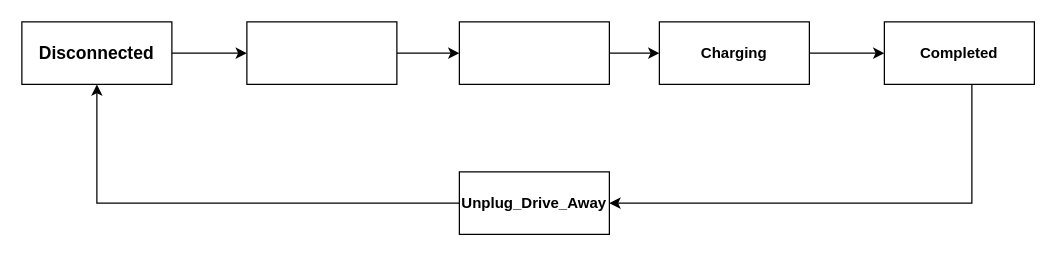
Image size: 1056x256. Some labels were removed from this diagram. Here are the shapes that lost their labels. From the top down, the box of each, then its label:
(246, 21, 397, 84): Nearby
(458, 21, 609, 84): Connected
